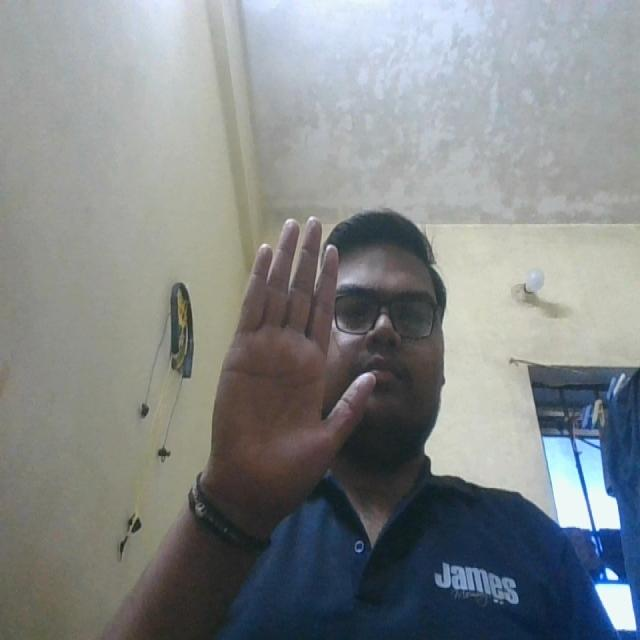Hello: (204, 193, 385, 528)
